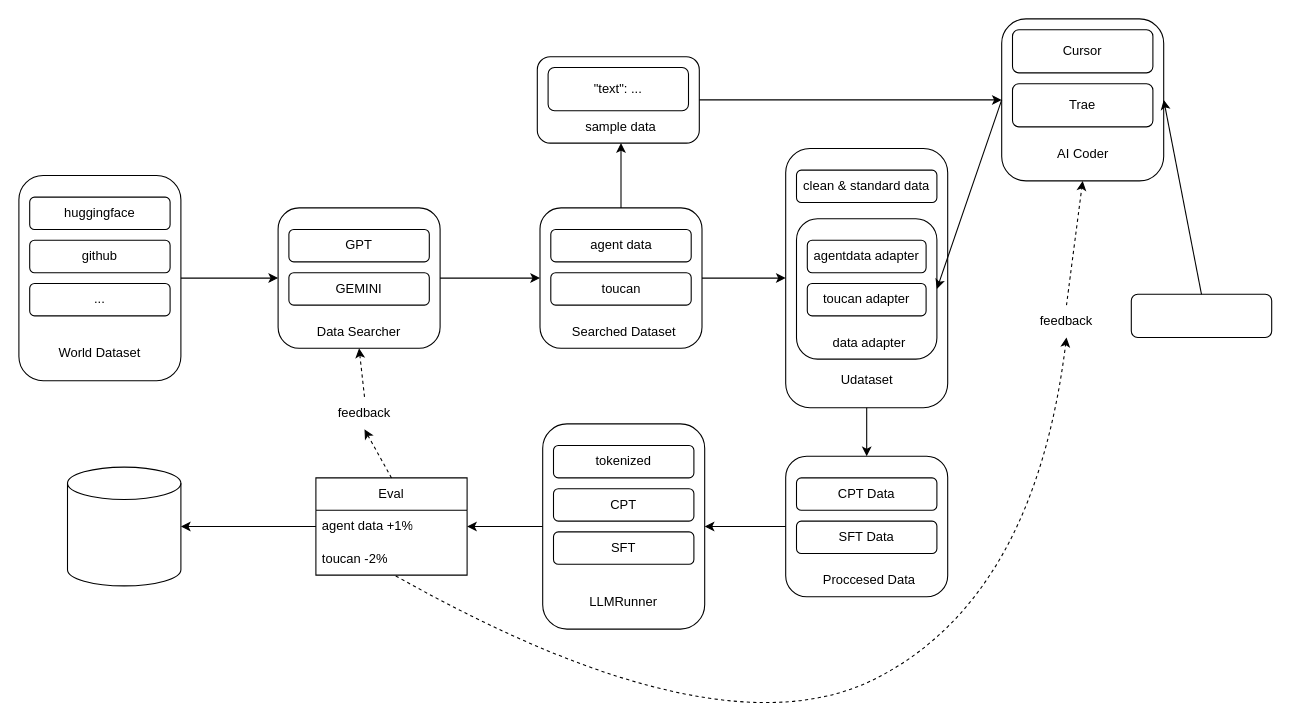
The diagram is 1291 pixels wide and 723 high, and some of its shapes have lost their labels. The centre of each missing label's shape, as x and y in pixels:
archived data: pixel 123 526
Paper design: pixel 1201 315
